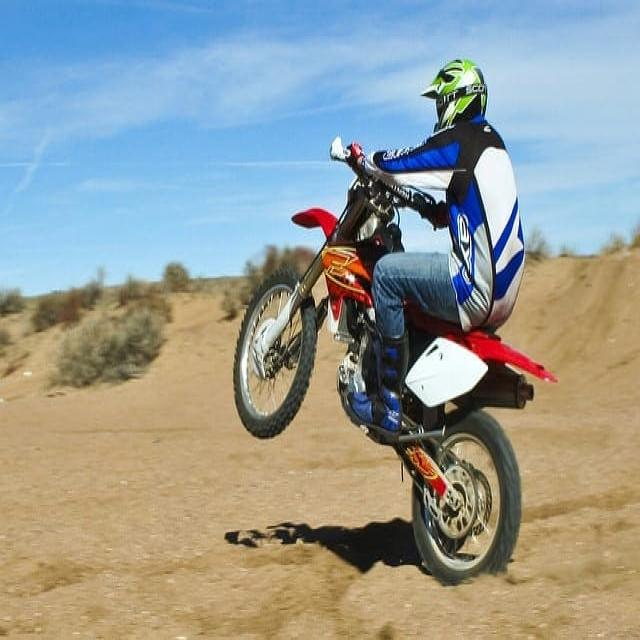Bike: (230, 145, 534, 581)
